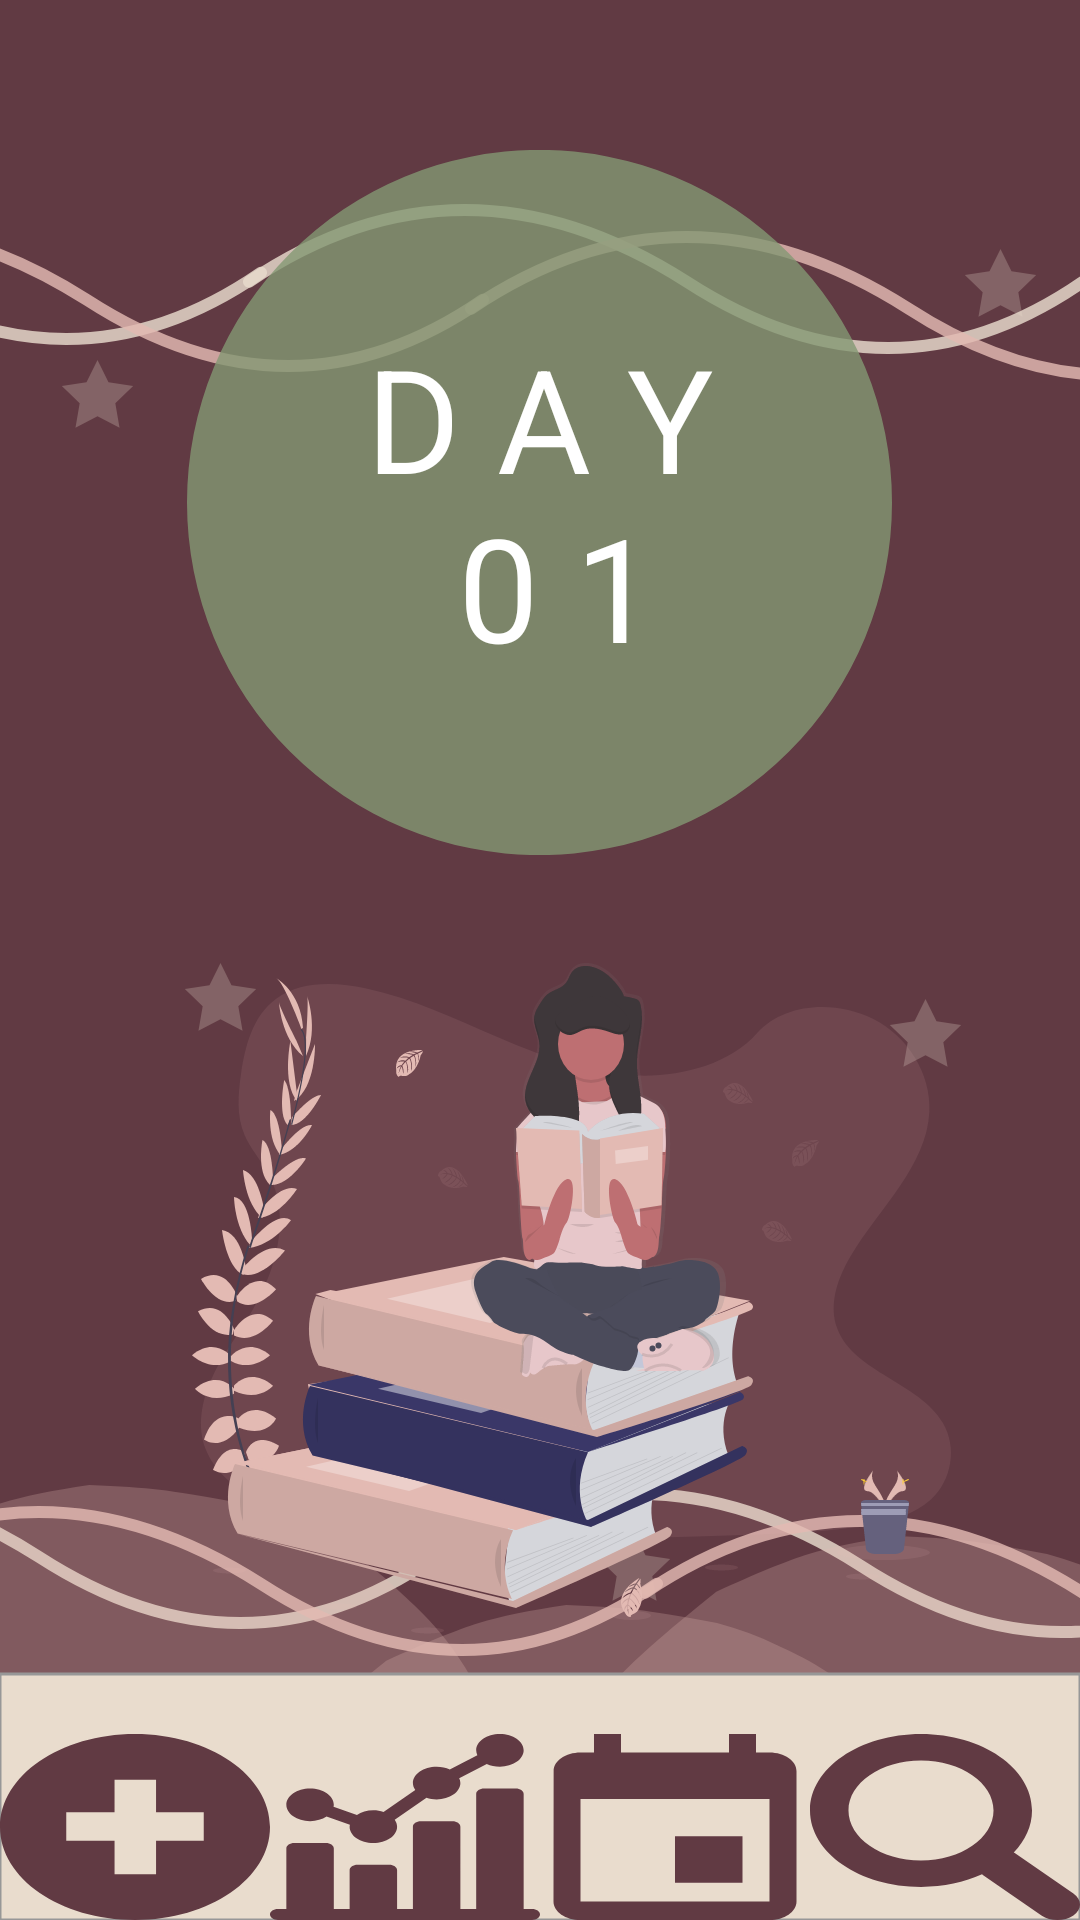

Point at icon controls on the screen. Image size 1080px×1920px, points as [x,y].
New Entry: [135,1827]
Search: [945,1827]
Select a Date to View Entries: [675,1827]
Stats: [405,1827]
